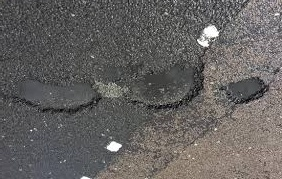pothole: (3, 74, 110, 122), (119, 65, 200, 108), (214, 79, 271, 105)
